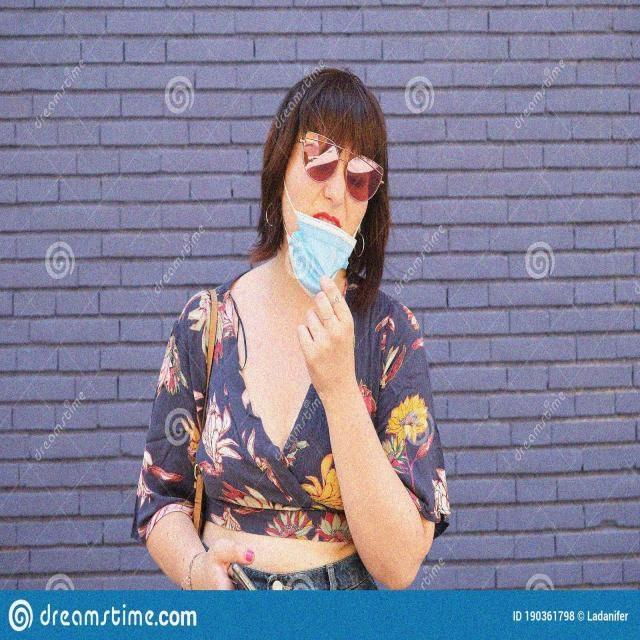hairnet: (268, 132, 391, 300)
